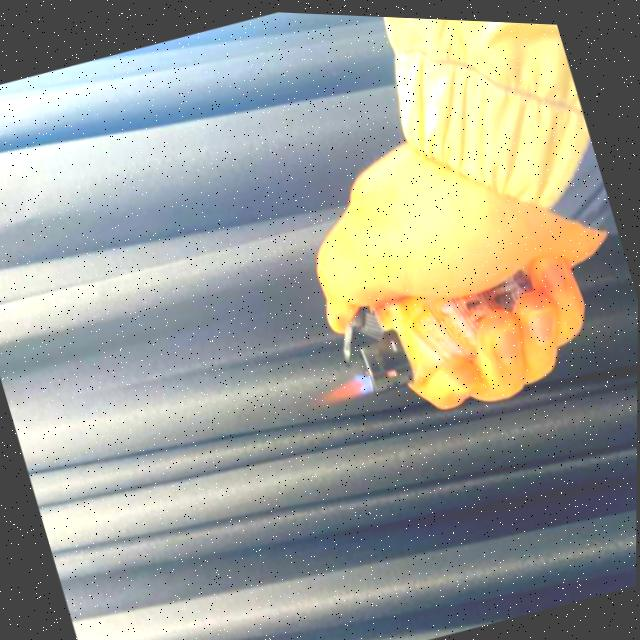Fire: (313, 363, 375, 410)
